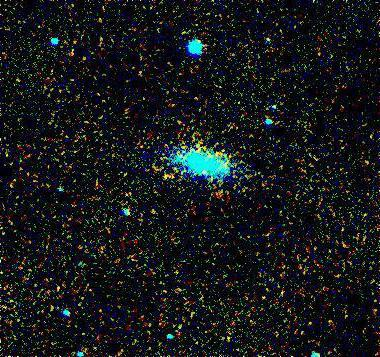star: (154, 157, 184, 187)
